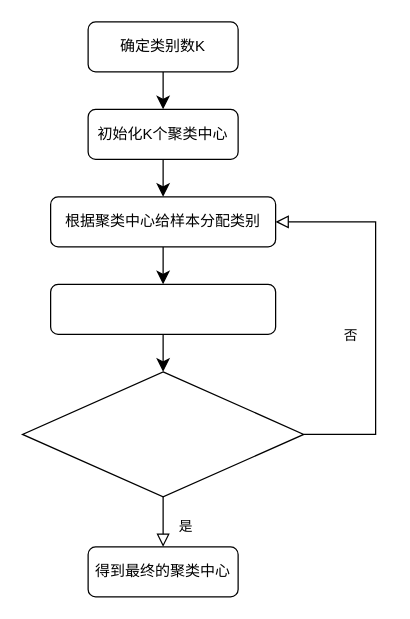
Image size: 410x619. Some labels were removed from this diagram. Here are the shapes that lost their labels. From the top down, the centre of each, then its label:
(162,308): 重新计算每个类别的聚类中心
(162,434): 重新计算的聚类中心与 上次的聚类中心之间的距离 是否小于阈值
